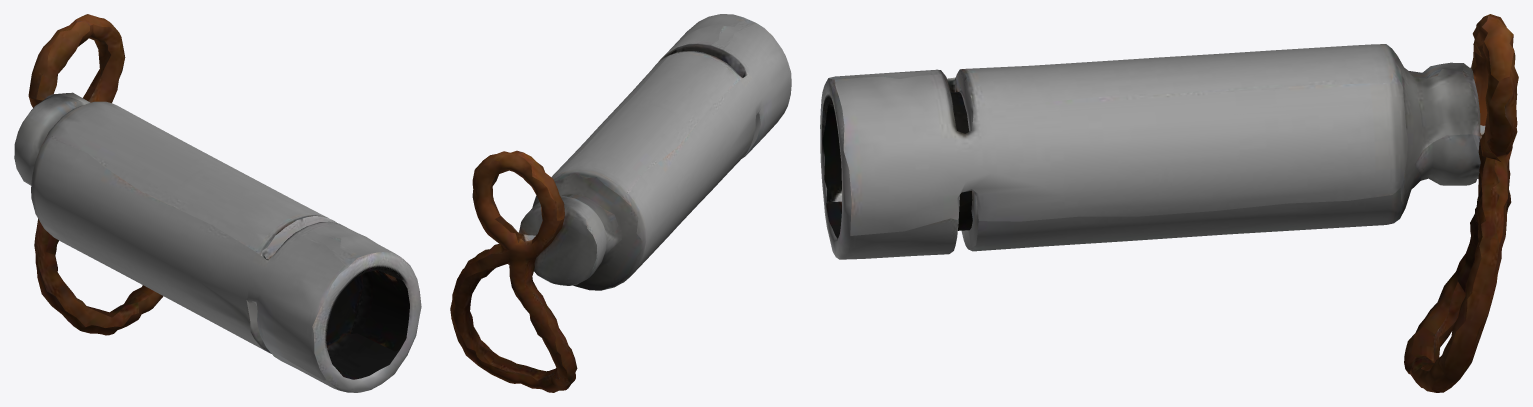
The model's file is pipe_whistle.glb.
3 views of the same model, side by side, from view 1: azimuth 30°, elevation 25°; view 2: azimuth 150°, elevation 25°; view 3: azimuth 270°, elevation 25° (orthographic). The views are drawn at different scales.
Visible parts, largest first — view 1: pipe_whistle; view 2: pipe_whistle; view 3: pipe_whistle.
Boxes of the visible parts, left/top/right/bottom form: pipe_whistle: left=14, top=14, right=421, bottom=392; pipe_whistle: left=450, top=14, right=791, bottom=392; pipe_whistle: left=820, top=14, right=1518, bottom=392.
Bounding box in the file's own units: 0.3628 × 0.5674 × 1.
Materials: 1 (1 with a texture image).
